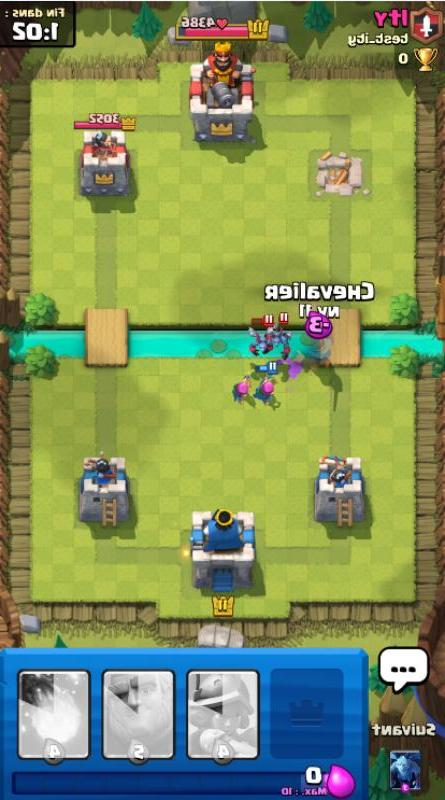archere: (251, 362, 278, 406), (229, 372, 252, 405)
chevalier: (293, 330, 334, 372)
gargouille: (266, 312, 292, 361), (248, 314, 275, 358)
